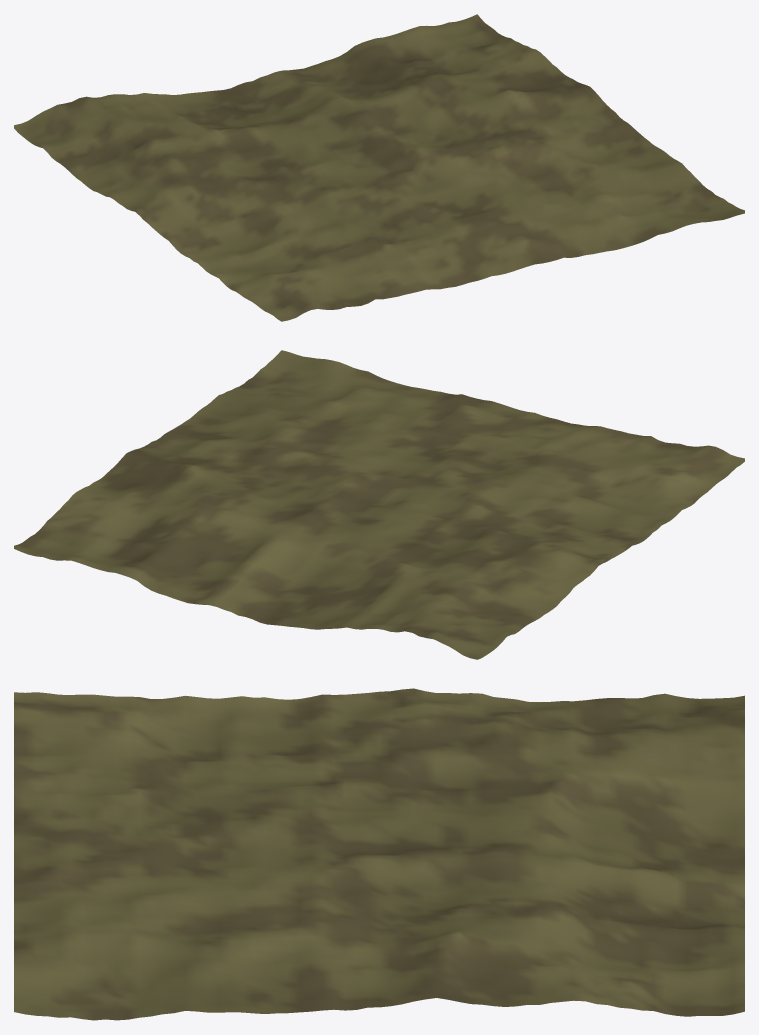
File: land_f_00_00.glb
The picture shows the model from 3 angles, top to bottom: view 1: azimuth 30°, elevation 25°; view 2: azimuth 150°, elevation 25°; view 3: azimuth 270°, elevation 25°; orthographic projection. The views are drawn at different scales.
Visible parts, largest first — view 1: land_f_00_00; view 2: land_f_00_00; view 3: land_f_00_00.
Part boxes in pixels (x1,y1,x2,y2): land_f_00_00: (14,14,744,321); land_f_00_00: (14,350,744,659); land_f_00_00: (14,688,744,1020).
Size of the model in its own units: 3840 by 280 by 3840.
